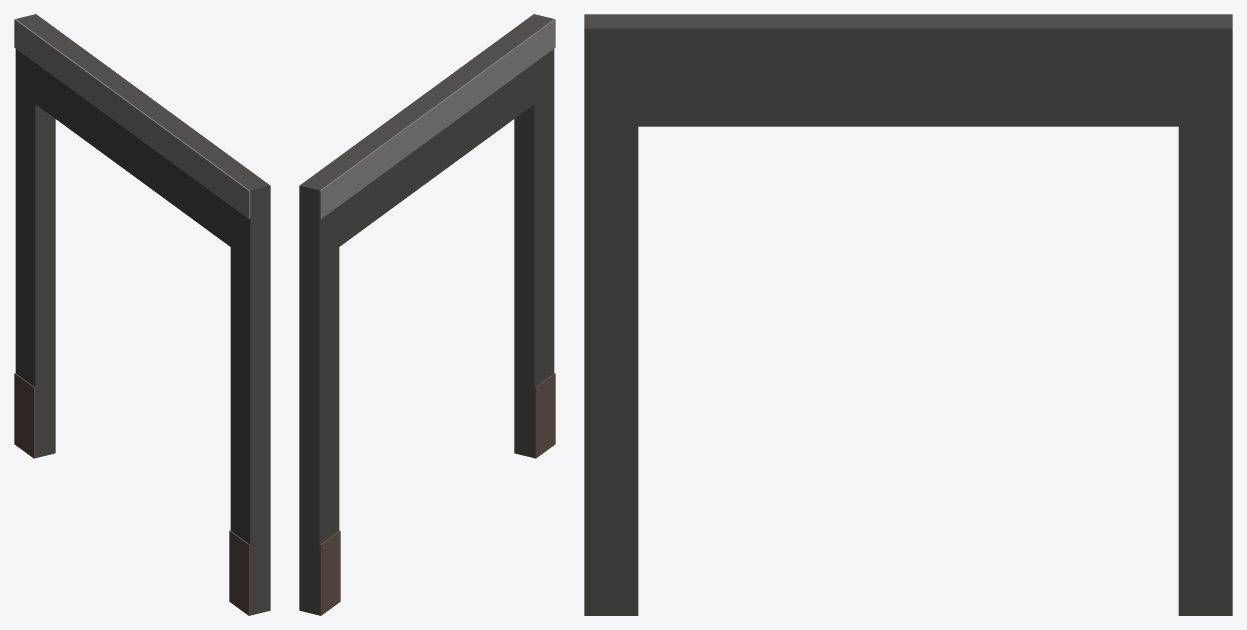
Rendered from B_k_wall_roller.glb.
The picture shows the model from 3 angles, left to right: view 1: azimuth 30°, elevation 25°; view 2: azimuth 150°, elevation 25°; view 3: azimuth 270°, elevation 25°; orthographic projection. The views are drawn at different scales.
Parts seen in each view (by area): view 1: Cube.002, Cube, Cube.004, Cube.005, Cube.003, Cube.001; view 2: Cube, Cube.002, Cube.004, Cube.005, Cube.001, Cube.003; view 3: Cube.004, Cube, Cube.002.
Part boxes in pixels (left/top/right/bottom): Cube.002: left=230, top=171, right=270, bottom=615; Cube: left=15, top=14, right=55, bottom=458; Cube.004: left=35, top=28, right=250, bottom=246; Cube.005: left=14, top=19, right=250, bottom=218; Cube.003: left=229, top=530, right=250, bottom=615; Cube.001: left=14, top=373, right=35, bottom=458; Cube: left=299, top=171, right=339, bottom=615; Cube.002: left=514, top=14, right=554, bottom=458; Cube.004: left=319, top=28, right=534, bottom=246; Cube.005: left=319, top=19, right=555, bottom=218; Cube.001: left=319, top=530, right=340, bottom=615; Cube.003: left=534, top=373, right=555, bottom=458; Cube.004: left=637, top=15, right=1179, bottom=126; Cube: left=1178, top=15, right=1232, bottom=615; Cube.002: left=584, top=15, right=638, bottom=615.
Bounding box in the file's own units: 0.32 × 6 × 6.
